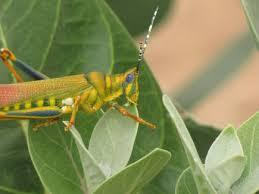insect: (0, 4, 162, 135)
